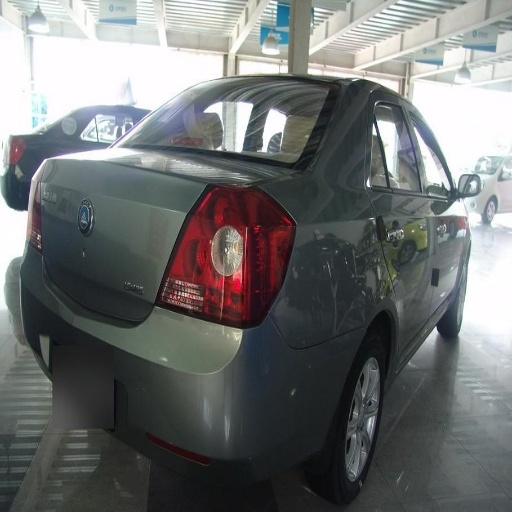back_bumper: (28, 257, 361, 499)
back_right_door: (367, 100, 430, 331)
tailgate: (81, 271, 160, 322)
trunk: (34, 148, 264, 306)
